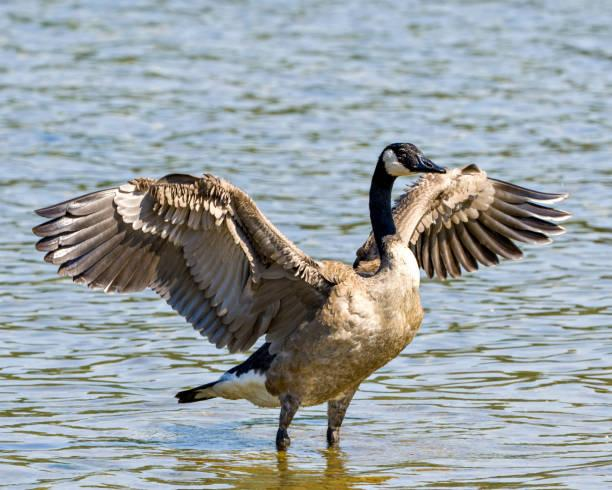Canadian-Goose: (37, 141, 568, 451)
